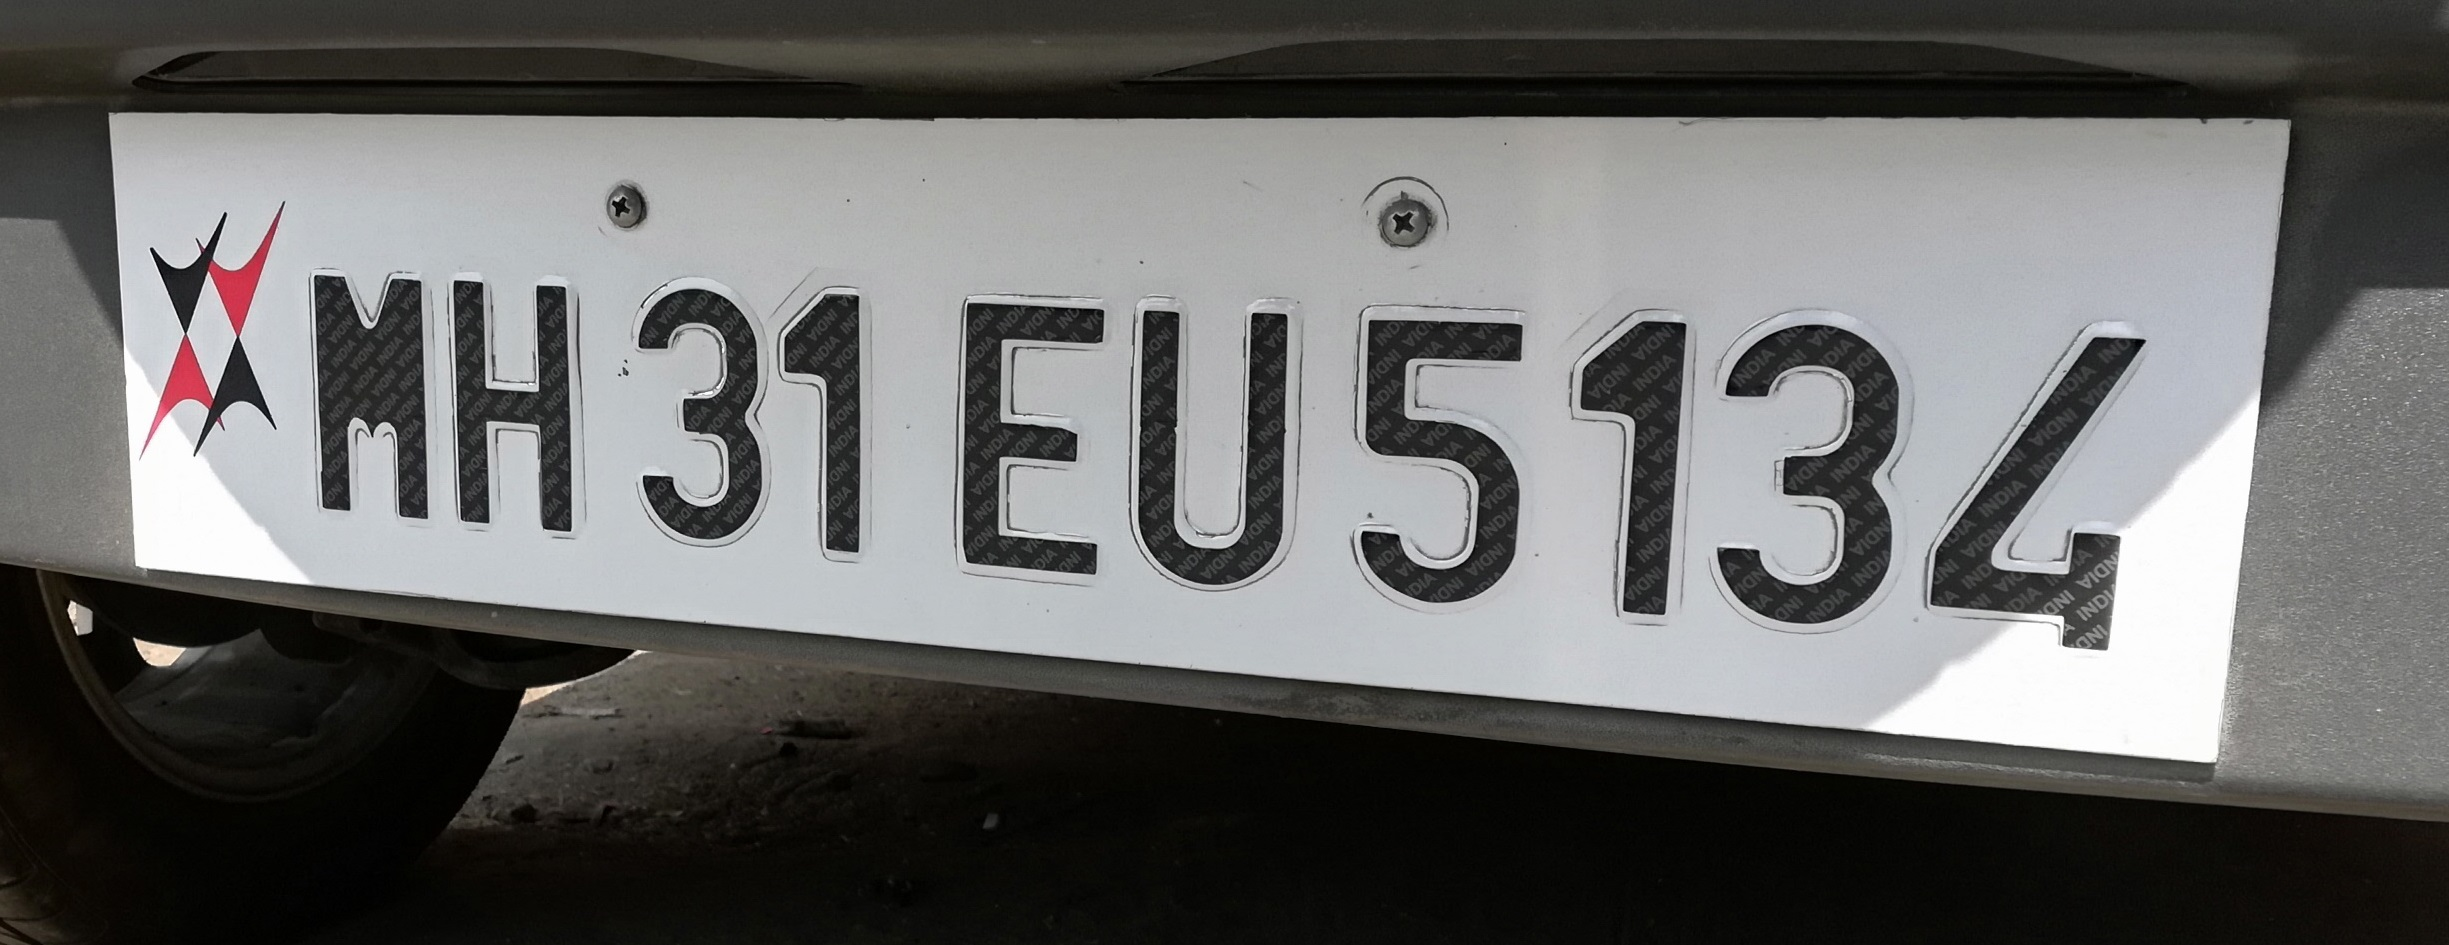numberplate: (93, 100, 2300, 759)
